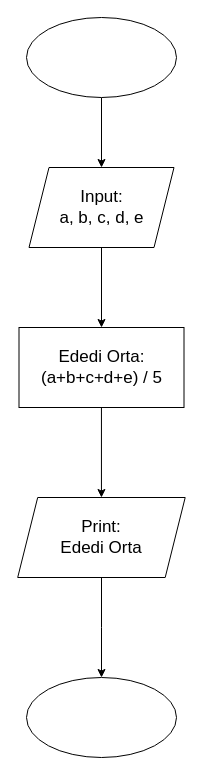
Image size: 203x775. Some labels were removed from this diagram. Each missing label, with the centre of its shape:
"End" belongs at (x=101, y=717).
"Start" belongs at (x=101, y=57).
